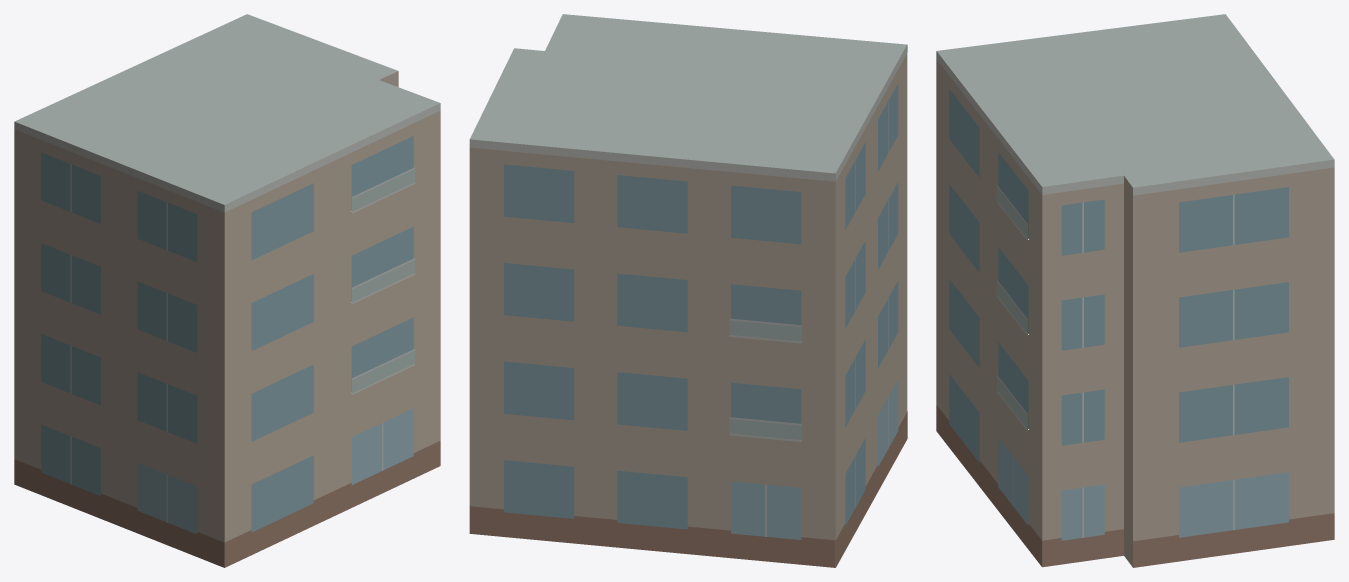
The model's file is survey-upis-32585753.glb.
3 renders of one model, left to right at view 1: azimuth 30°, elevation 25°; view 2: azimuth 150°, elevation 25°; view 3: azimuth 270°, elevation 25°, orthographic. The views are drawn at different scales.
Parts seen in each view (by area): view 1: survey-upis-32585753.tmp; view 2: survey-upis-32585753.tmp; view 3: survey-upis-32585753.tmp.
Boxes of the visible parts, left/top/right/bottom form: survey-upis-32585753.tmp: left=14, top=14, right=440, bottom=567; survey-upis-32585753.tmp: left=469, top=14, right=907, bottom=567; survey-upis-32585753.tmp: left=936, top=14, right=1334, bottom=567.
Size of the model in its own units: 11.43 by 11.65 by 11.07.
